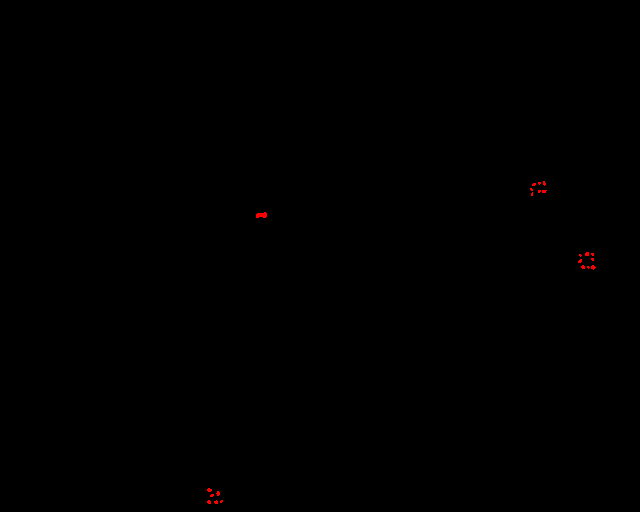Target: (256, 212, 267, 218), (591, 265, 596, 270), (207, 488, 212, 492), (216, 491, 220, 496), (585, 252, 589, 256), (578, 259, 582, 263), (581, 265, 585, 269), (207, 500, 211, 504), (214, 500, 218, 504), (543, 181, 546, 186), (542, 190, 547, 193), (532, 183, 536, 186), (210, 494, 214, 497), (538, 182, 541, 185), (530, 188, 533, 191), (538, 190, 541, 193), (591, 253, 594, 256), (579, 254, 582, 257), (591, 258, 594, 261), (587, 266, 590, 269), (220, 500, 223, 503), (531, 192, 533, 196)
